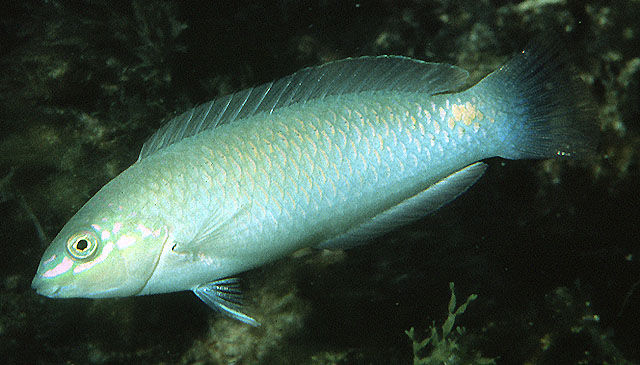fish: (30, 30, 601, 329)
